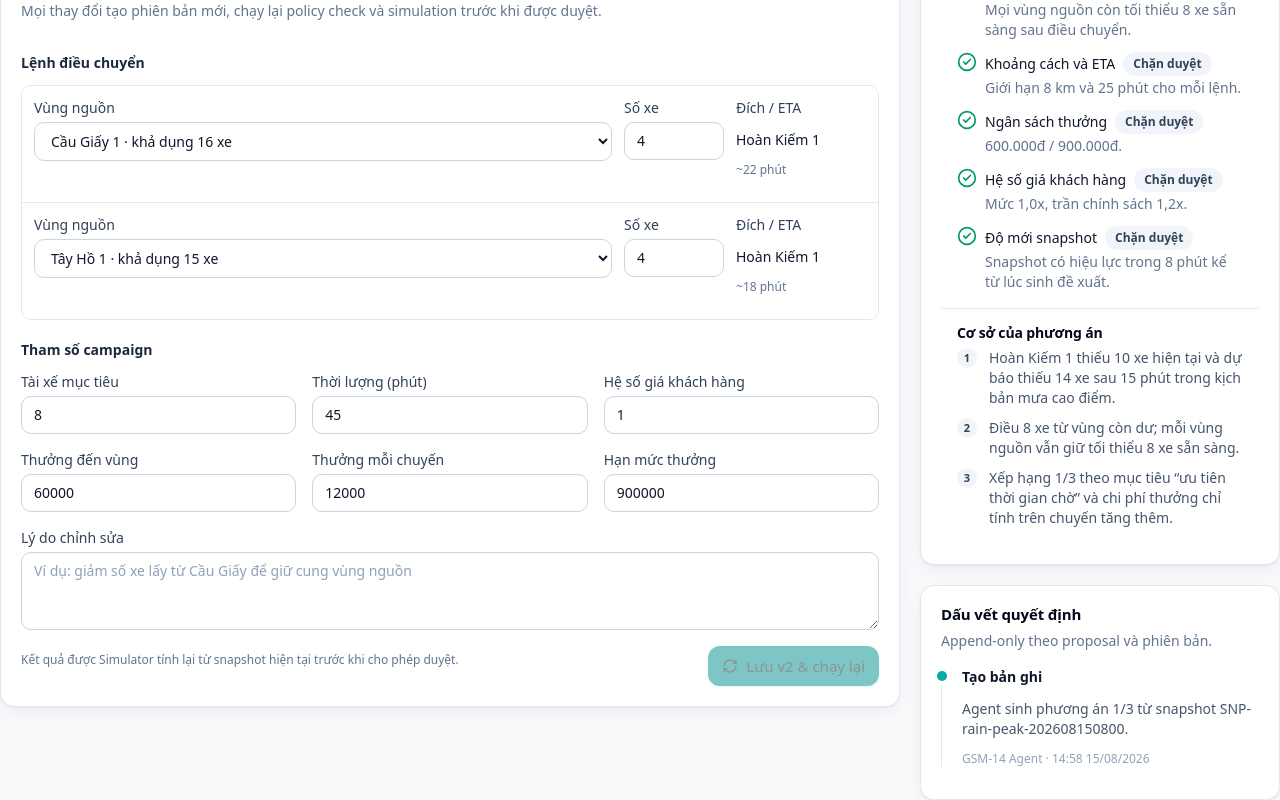
it: operator proposal review flow › preserves structured revision errors through the plan detail boundary
The width and height of the screenshot is (1280, 800).
(page scrolled)
Type "Kiểm thử lỗi validation" into the text box labelled "Lý do chỉnh sửa" at [450, 591], box x1=21 y1=552 x2=879 y2=630
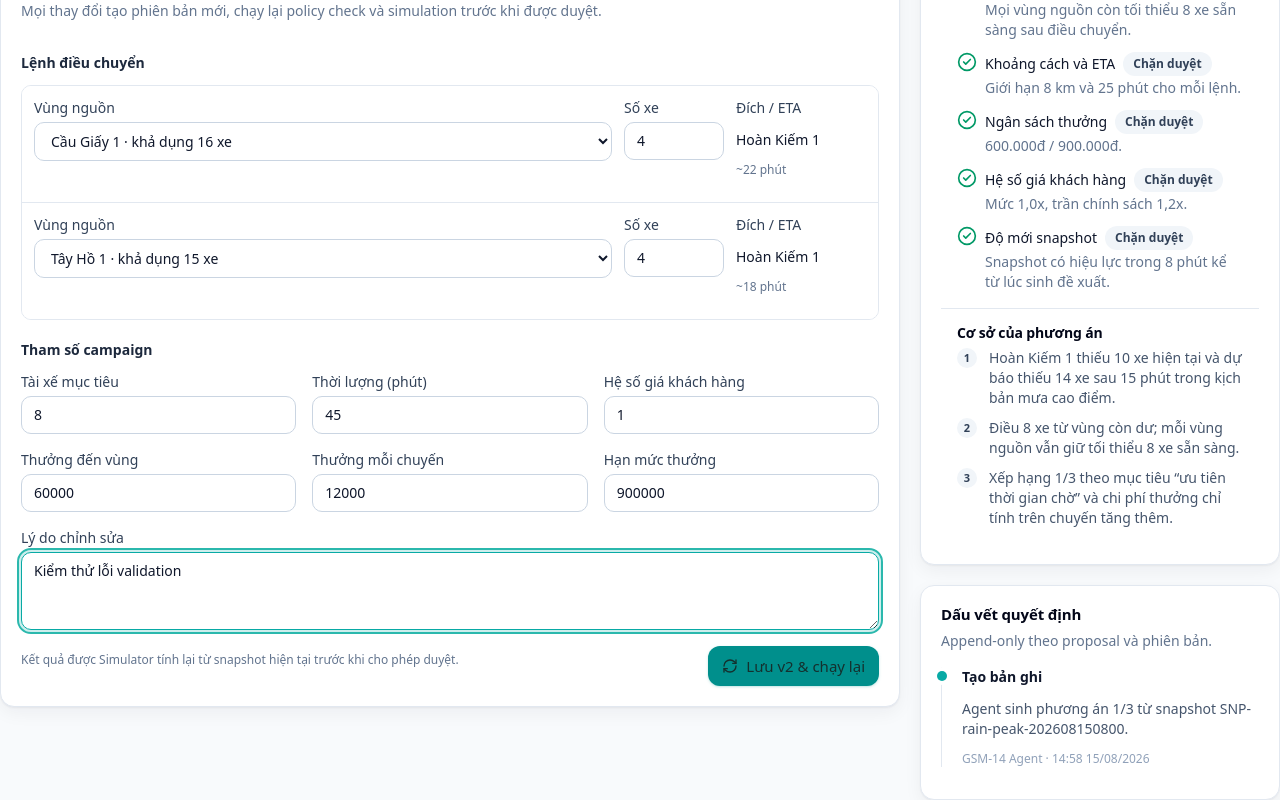
Click the button "Lưu v2 & chạy lại" at [794, 666], box x1=708 y1=646 x2=879 y2=686
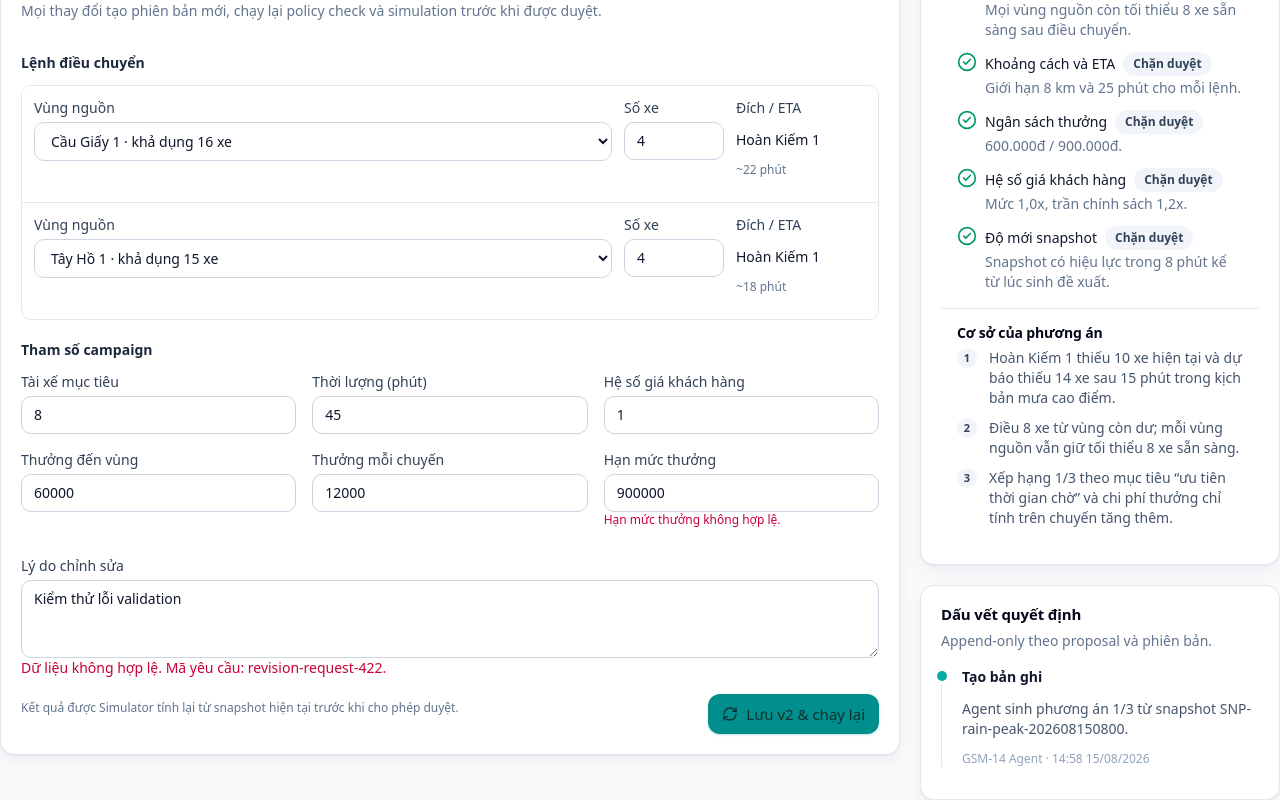
Result: the message shows "revision-request-422" at x1=162 y1=658 x2=386 y2=677
